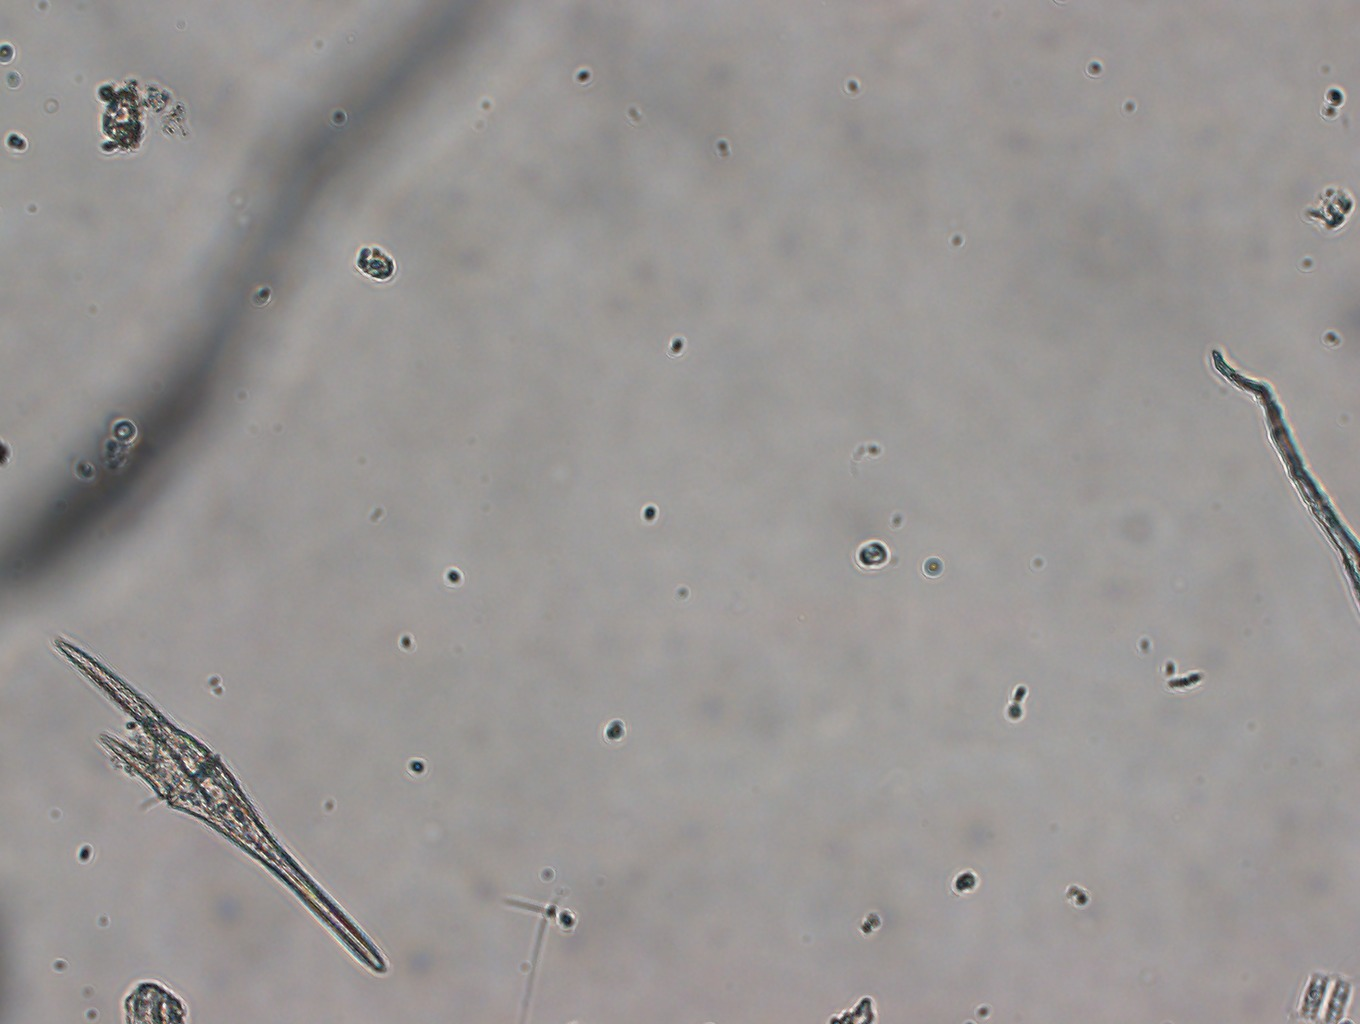ceratium furca: (44, 632, 393, 978)
